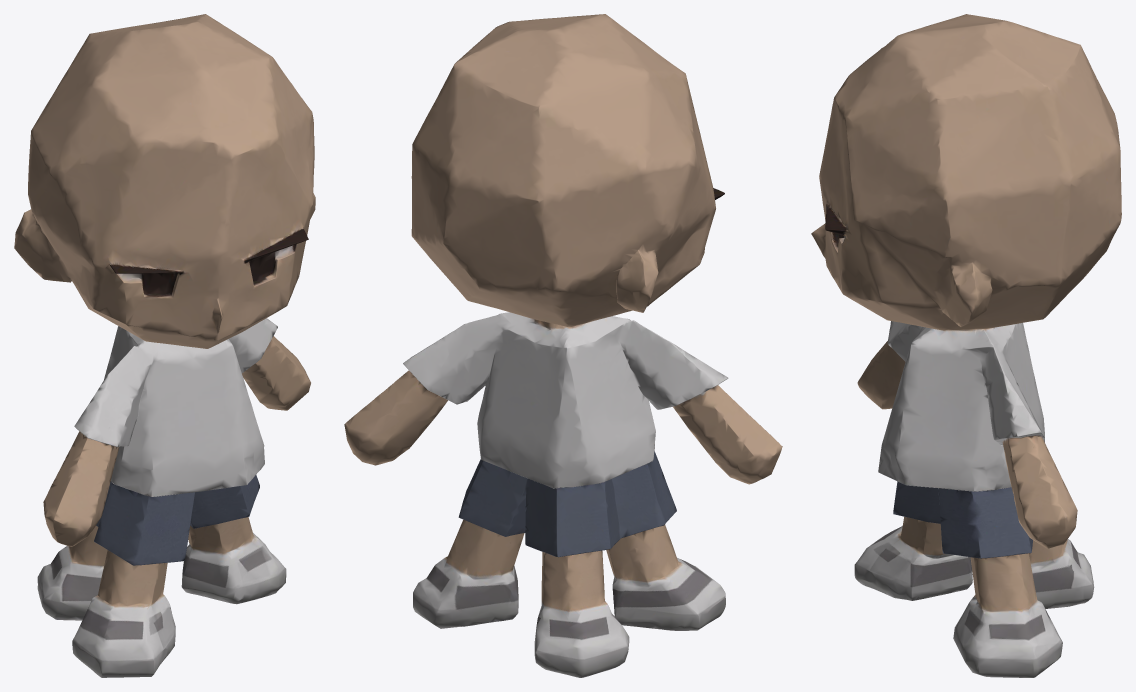
Rendered from _input_yawfixed.glb.
The picture shows the model from 3 angles, left to right: view 1: azimuth 30°, elevation 25°; view 2: azimuth 150°, elevation 25°; view 3: azimuth 270°, elevation 25°; orthographic projection.
Visible parts, largest first — view 1: tripo_node_9a7b3d0f-75d7-4035-aacb-3add16d01b20; view 2: tripo_node_9a7b3d0f-75d7-4035-aacb-3add16d01b20; view 3: tripo_node_9a7b3d0f-75d7-4035-aacb-3add16d01b20.
Part boxes in pixels (x1=…): tripo_node_9a7b3d0f-75d7-4035-aacb-3add16d01b20: x1=14, y1=14, x2=315, y2=677; tripo_node_9a7b3d0f-75d7-4035-aacb-3add16d01b20: x1=344, y1=14, x2=782, y2=677; tripo_node_9a7b3d0f-75d7-4035-aacb-3add16d01b20: x1=811, y1=14, x2=1121, y2=677.
Size of the model in its own units: 0.6031 by 1 by 0.4705.
Materials: 1 (1 with a texture image).
